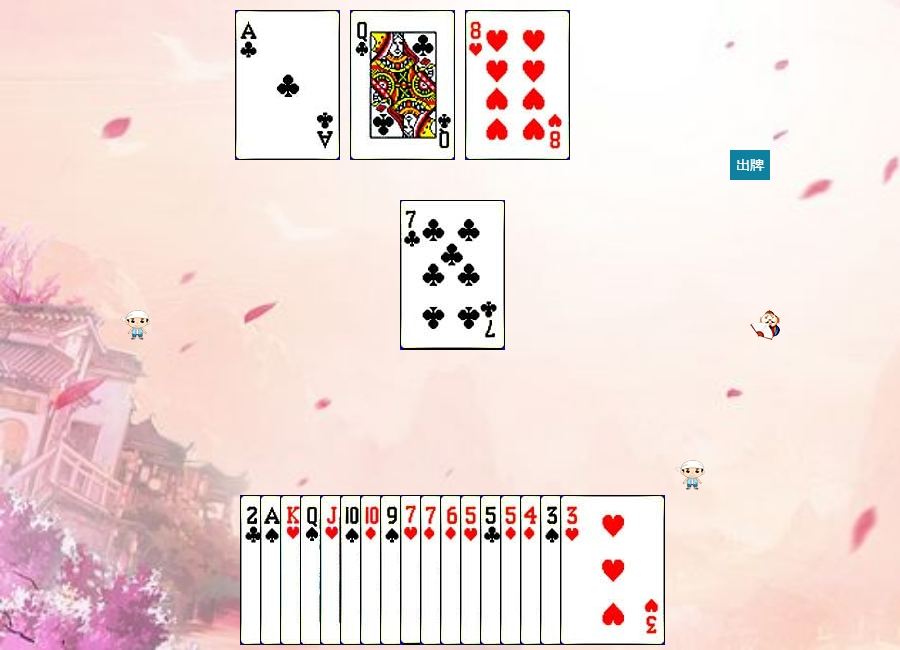10~1: (360, 495, 465, 645)
10~4: (340, 495, 445, 645)
11~3: (320, 495, 425, 645)
12~2: (350, 10, 455, 160)
12~4: (300, 495, 405, 645)
13~3: (280, 495, 385, 645)
14~2: (235, 10, 340, 160)
14~4: (260, 495, 365, 645)
15~2: (240, 495, 345, 645)
3~3: (560, 495, 665, 645)
3~4: (540, 495, 645, 645)
4~1: (520, 495, 625, 645)
5~1: (500, 495, 605, 645)
5~2: (480, 495, 585, 645)
5~3: (460, 495, 565, 645)
6~1: (440, 495, 545, 645)
7~1: (420, 495, 525, 645)
7~2: (400, 200, 505, 350)
7~3: (400, 495, 505, 645)
8~3: (465, 10, 570, 160)
9~4: (380, 495, 485, 645)
